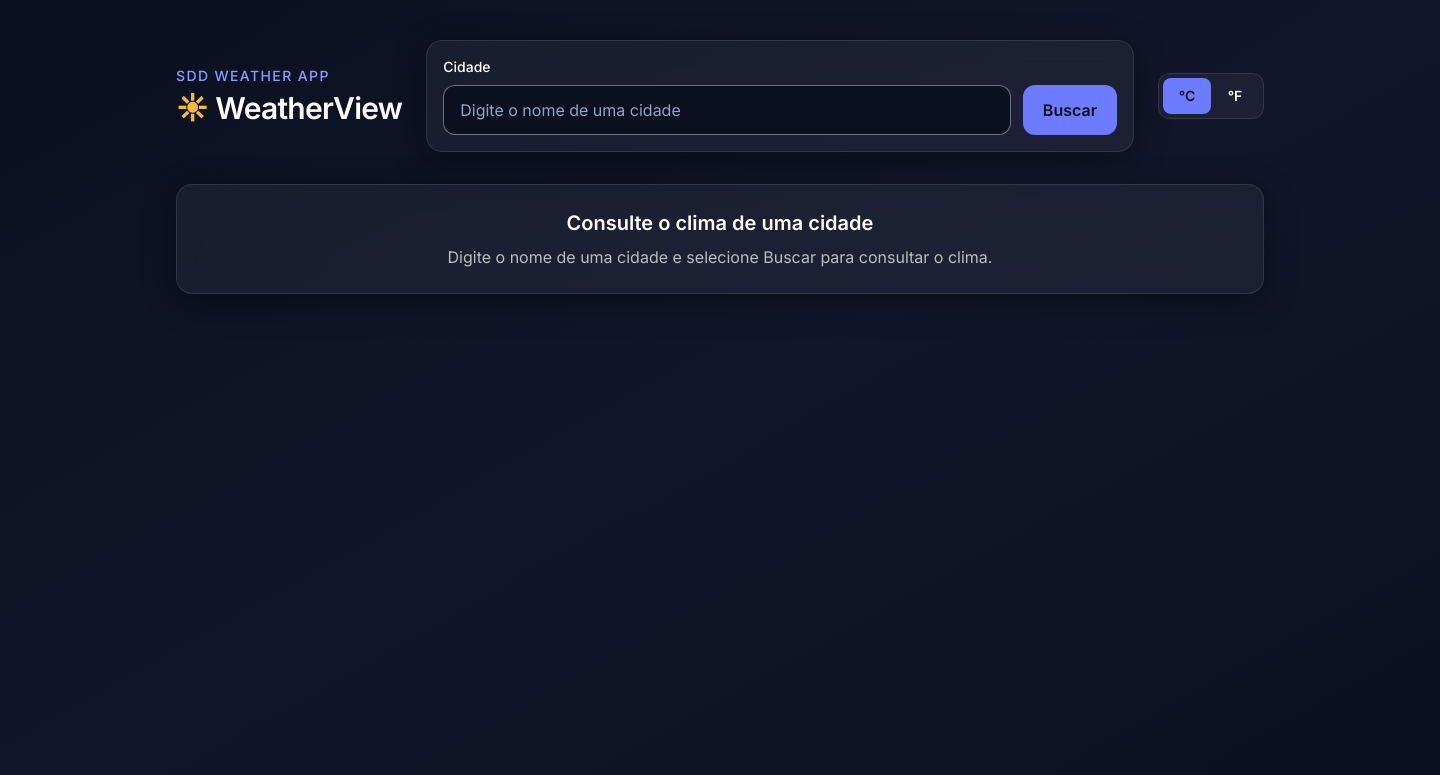
Test: App integrado ao serviço (fetch stubado) › converte para Fahrenheit somente os valores disponíveis da resposta parcial
The image size is (1440, 775).
Type "São Paulo" into the search field.
click(727, 110); type("São Paulo")  # box x1=443 y1=85 x2=1011 y2=135
Then press Enter
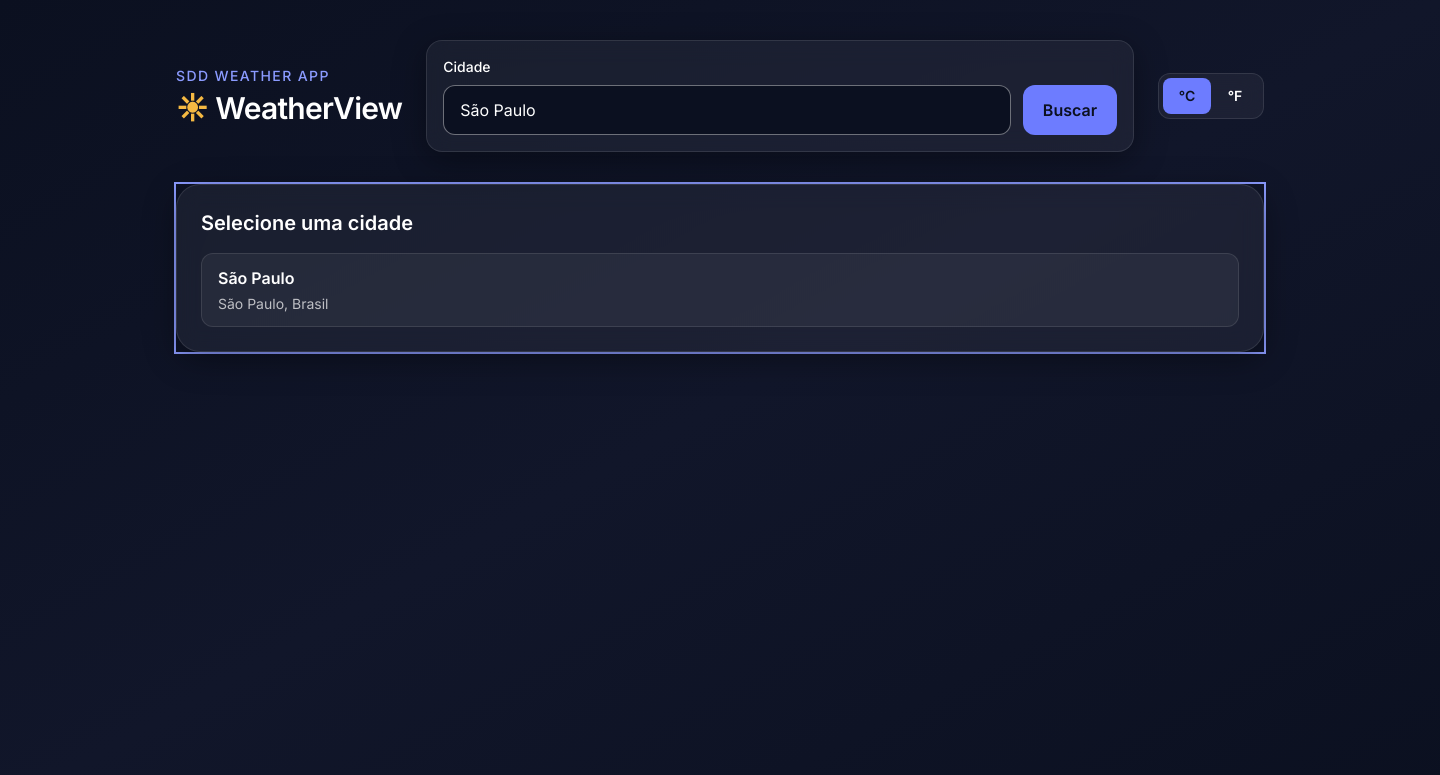
Click the button "São Paulo São Paulo, Brasil".
click(256, 278)  # box x1=201 y1=253 x2=1239 y2=327
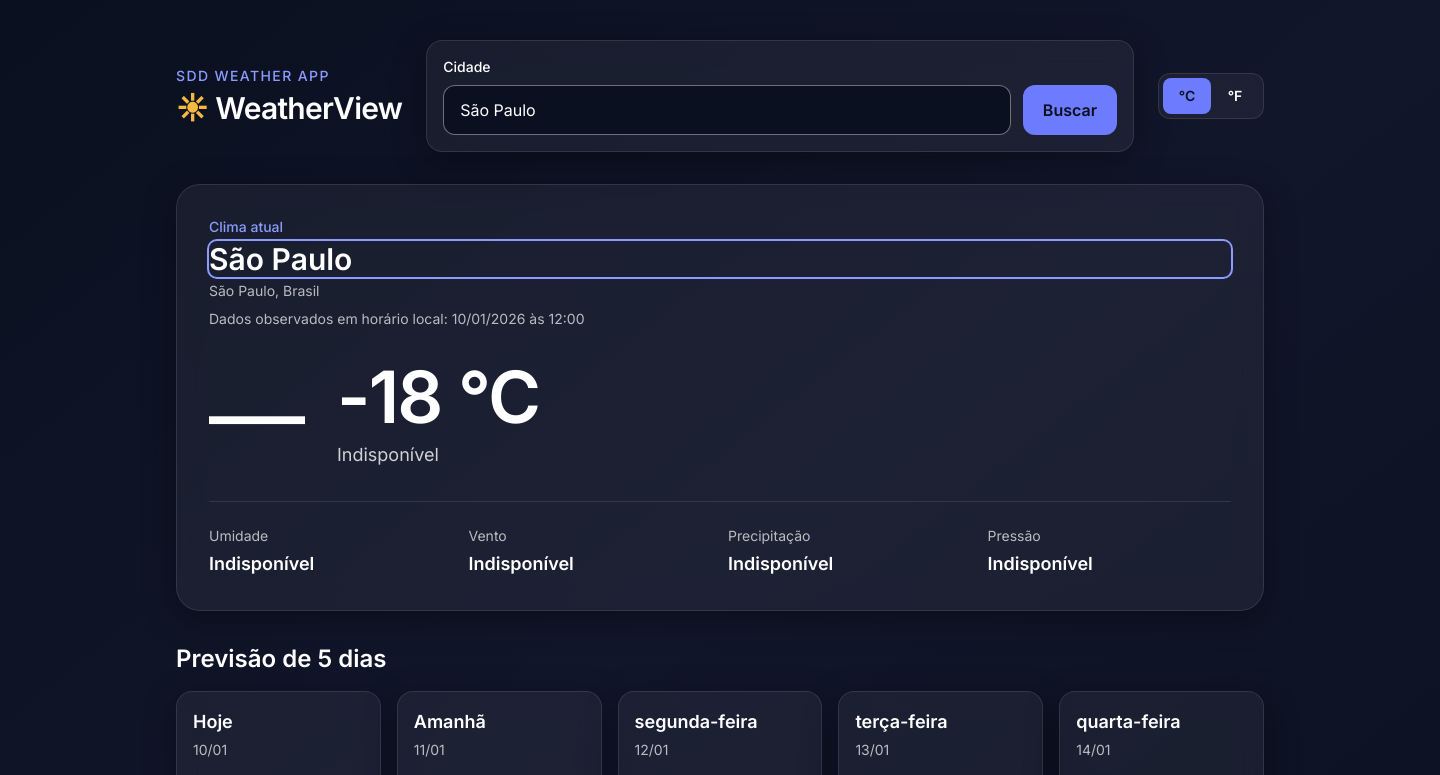
Expected: the heading "São Paulo" is shown, x1=209 y1=241 x2=1231 y2=277
Click the button named "Graus Fahrenheit".
click(1235, 96)  # box x1=1211 y1=78 x2=1259 y2=114
(page scrolled)
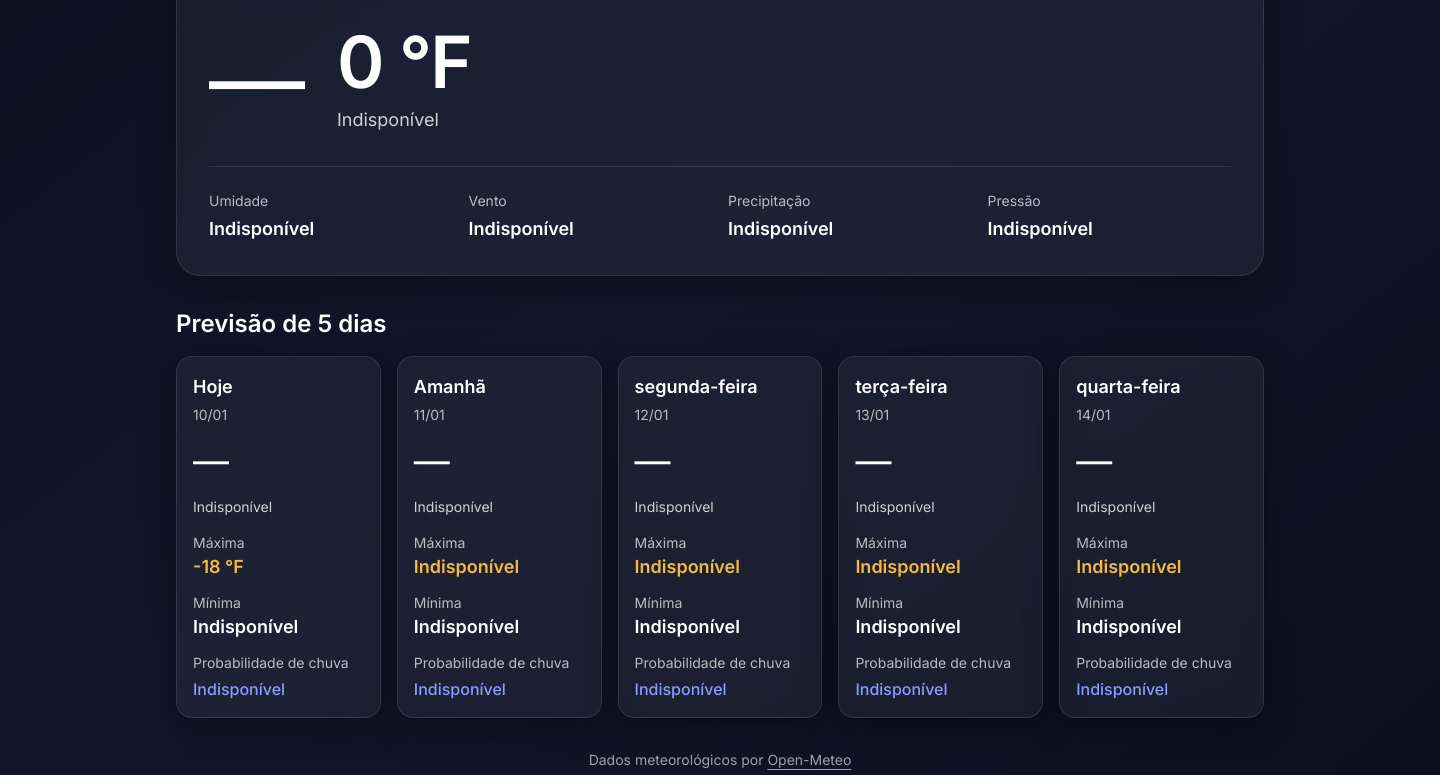
Expected: the text named "Temperatura: 0 °F" is shown, x1=337 y1=26 x2=471 y2=98
Expected: the text "-18 °F" is shown, x1=193 y1=556 x2=244 y2=577
